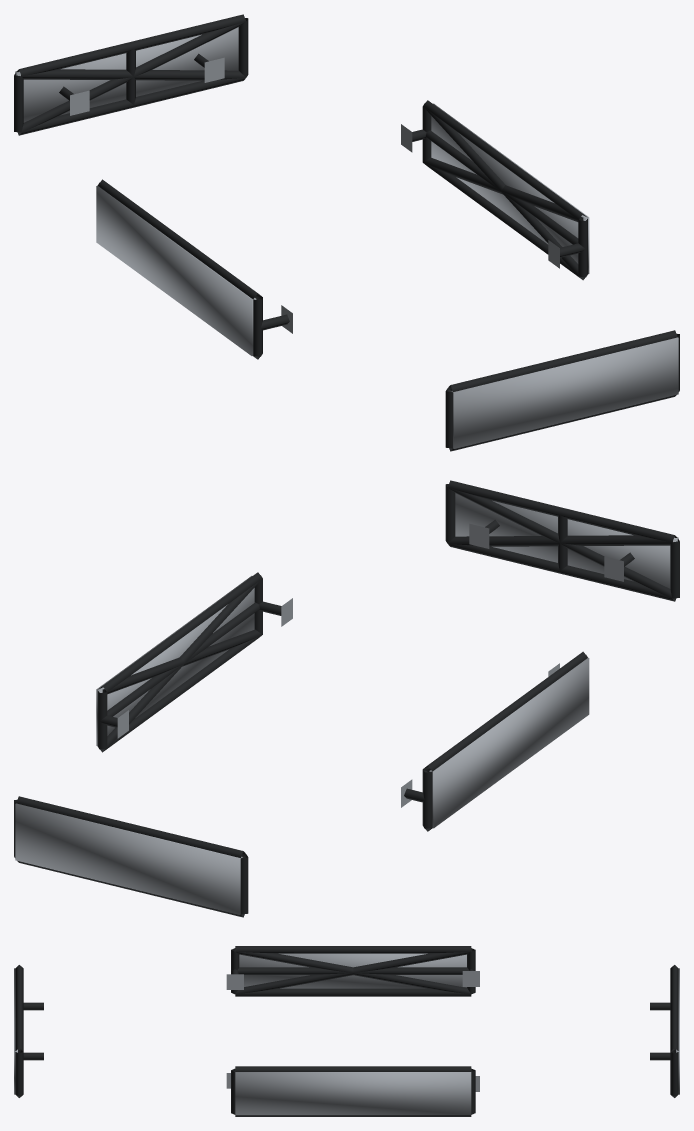
File: norrvik_favo_protecao.glb
3 views of the same model, one above another, from view 1: azimuth 30°, elevation 25°; view 2: azimuth 150°, elevation 25°; view 3: azimuth 270°, elevation 25° (orthographic). The views are drawn at different scales.
Visible parts, largest first — view 1: Protection_front_Level3_Details, Protection_left_Level3_Details, Protection_rear_Level1_Details, Protection_rear_Level3_Details, Protection_right_Level1_Details, Protection_rear_Level2_Details, Protection_right_Level2_Details, Protection_right_Level3_Details, Protection_front_Level1_Details, Protection_left_Level1_Details; view 2: Protection_rear_Level3_Details, Protection_left_Level3_Details, Protection_front_Level1_Details, Protection_front_Level3_Details, Protection_right_Level1_Details, Protection_front_Level2_Details, Protection_right_Level2_Details, Protection_right_Level3_Details, Protection_rear_Level1_Details, Protection_left_Level1_Details; view 3: Protection_right_Level3_Details, Protection_left_Level2_Details, Protection_left_Level1_Details, Protection_left_Level3_Details, Protection_right_Level1_Details, Protection_rear_Level1_Details, Protection_front_Level1_Details.
Part boxes in pixels (box(x1,y1,x2,y2)): Protection_front_Level3_Details: box(451, 337, 678, 448); Protection_left_Level3_Details: box(96, 185, 256, 355); Protection_rear_Level1_Details: box(14, 14, 248, 135); Protection_rear_Level3_Details: box(15, 27, 238, 122); Protection_right_Level1_Details: box(401, 100, 587, 280); Protection_rear_Level2_Details: box(16, 21, 245, 134); Protection_right_Level2_Details: box(423, 107, 587, 279); Protection_right_Level3_Details: box(431, 103, 589, 274); Protection_front_Level1_Details: box(445, 330, 679, 451); Protection_left_Level1_Details: box(97, 179, 292, 359); Protection_rear_Level3_Details: box(15, 803, 242, 914); Protection_left_Level3_Details: box(429, 657, 589, 828); Protection_front_Level1_Details: box(445, 480, 679, 601); Protection_front_Level3_Details: box(455, 493, 678, 588); Protection_right_Level1_Details: box(97, 572, 292, 752); Protection_front_Level2_Details: box(448, 487, 677, 600); Protection_right_Level2_Details: box(98, 579, 262, 751); Protection_right_Level3_Details: box(96, 576, 254, 746); Protection_rear_Level1_Details: box(14, 796, 248, 917); Protection_left_Level1_Details: box(401, 651, 587, 831); Protection_right_Level3_Details: box(235, 1072, 471, 1115); Protection_left_Level2_Details: box(234, 948, 471, 994); Protection_left_Level1_Details: box(226, 946, 479, 996); Protection_left_Level3_Details: box(239, 953, 466, 988); Protection_right_Level1_Details: box(226, 1066, 479, 1116); Protection_rear_Level1_Details: box(650, 965, 678, 1097); Protection_front_Level1_Details: box(15, 965, 43, 1097).
Size of the model in its own units: 1.88 by 0.354 by 4.23.
1 material, 1 textured.
